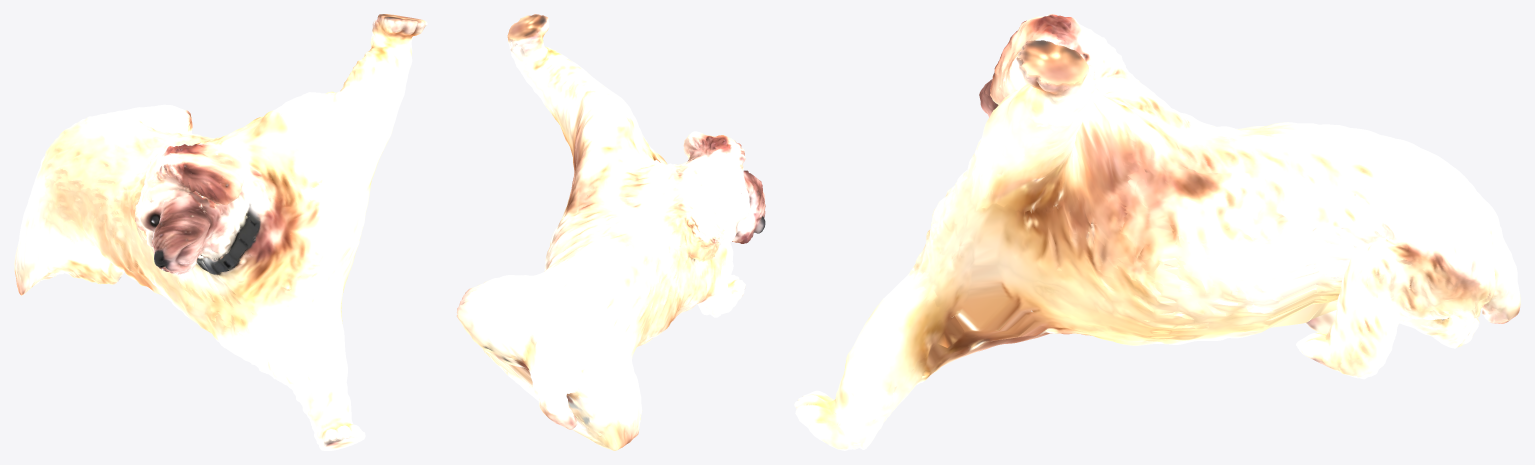
Rendered from sleep_pose_v3.glb.
3 views of the same model, side by side, from view 1: azimuth 30°, elevation 25°; view 2: azimuth 150°, elevation 25°; view 3: azimuth 270°, elevation 25° (orthographic). The views are drawn at different scales.
Parts seen in each view (by area): view 1: char1; view 2: char1; view 3: char1.
Boxes of the visible parts, x1,y1,x2,y2 form: char1: (14,14,427,450); char1: (456,14,765,450); char1: (794,14,1520,450).
Bounding box in the file's own units: 0.00308 × 0.00374 × 0.005.
Materials: 1 (1 with a texture image).
